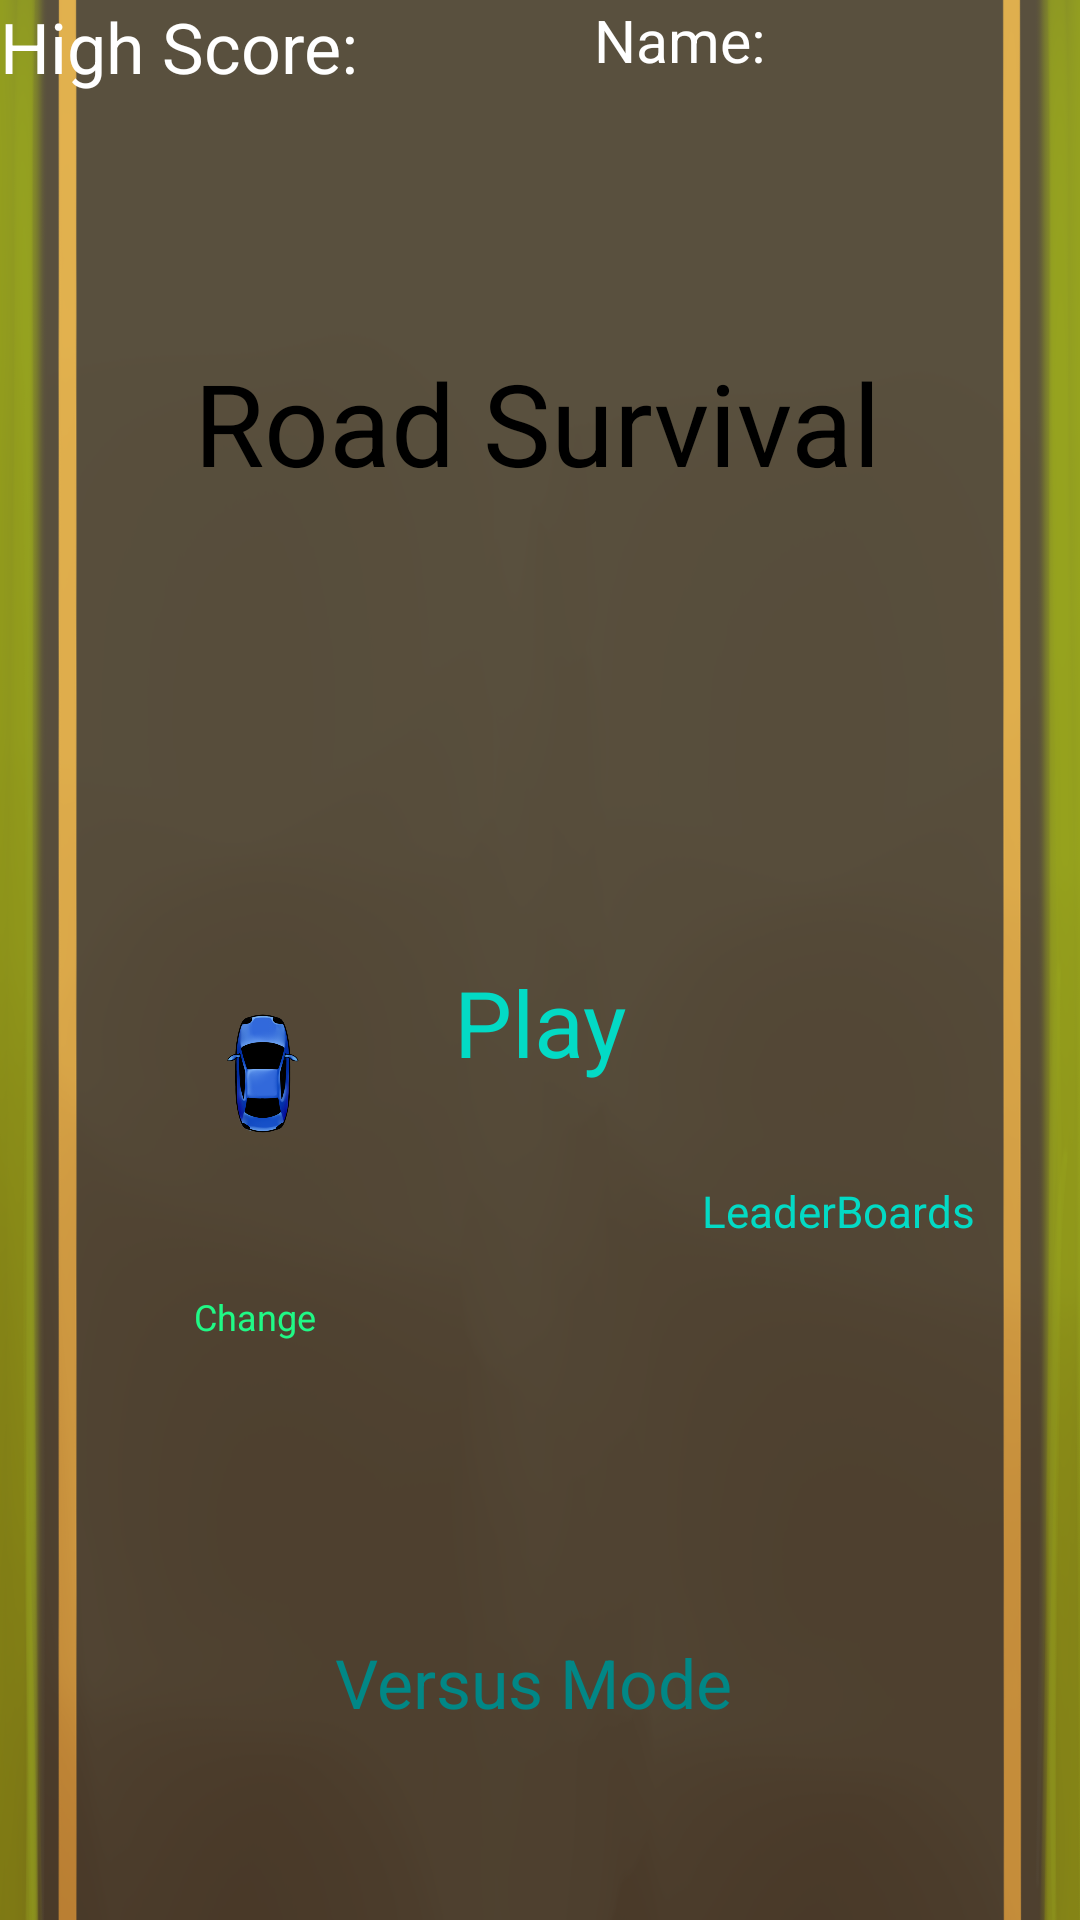

Where to tap for icons on this 1080w x 1920h app screen, as point (x, y):
carblue: point (262, 1073)
